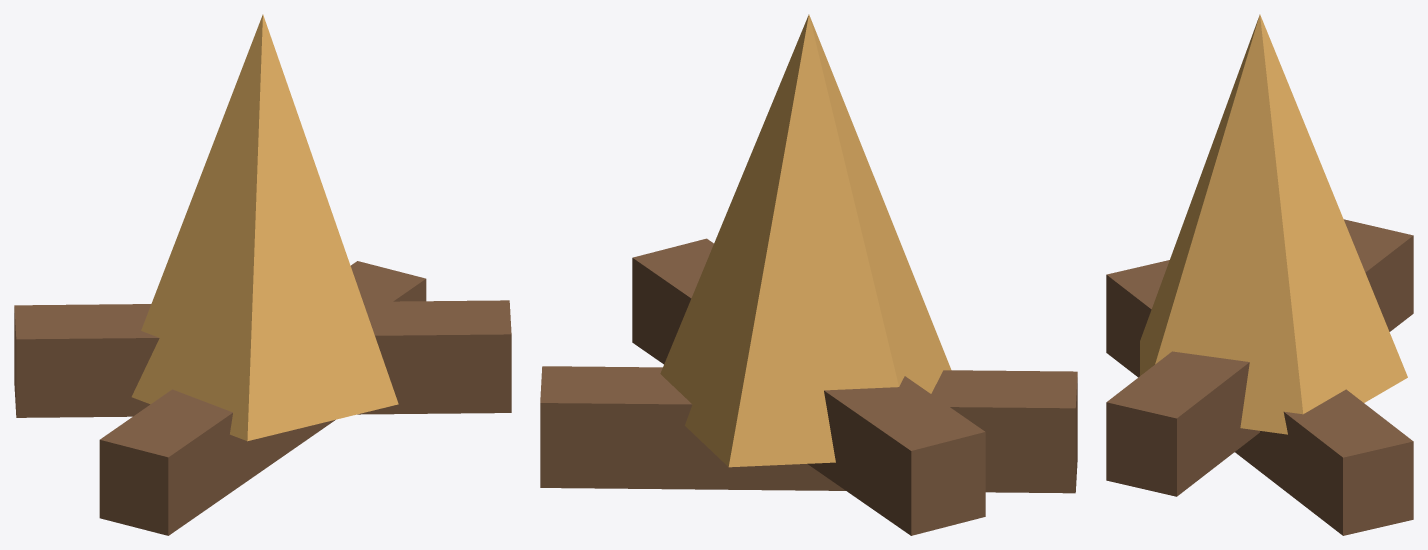
The model's file is prop_campfire.glb.
3 renders of one model, left to right at view 1: azimuth 30°, elevation 25°; view 2: azimuth 150°, elevation 25°; view 3: azimuth 270°, elevation 25°, orthographic. The views are drawn at different scales.
Visible parts, largest first — view 1: prop_campfire; view 2: prop_campfire; view 3: prop_campfire.
Part boxes in pixels (x1,y1,x2,y2): prop_campfire: (14, 14, 511, 535); prop_campfire: (540, 14, 1077, 535); prop_campfire: (1106, 14, 1413, 535).
Size of the model in its own units: 0.7644 by 0.755 by 0.4976.
Materials: 1 (1 with a texture image).
